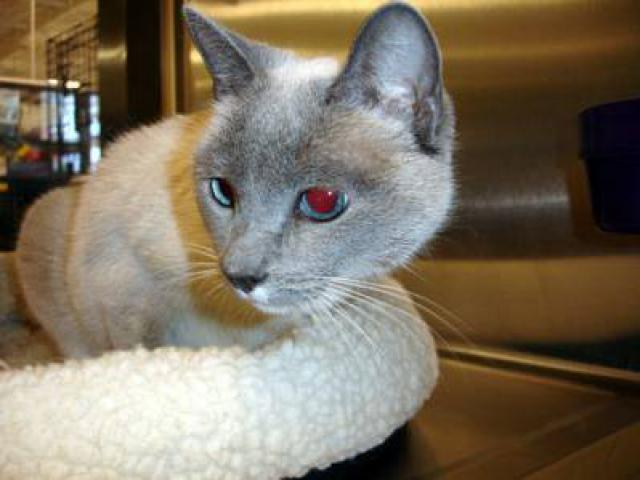cat: (28, 5, 468, 352)
